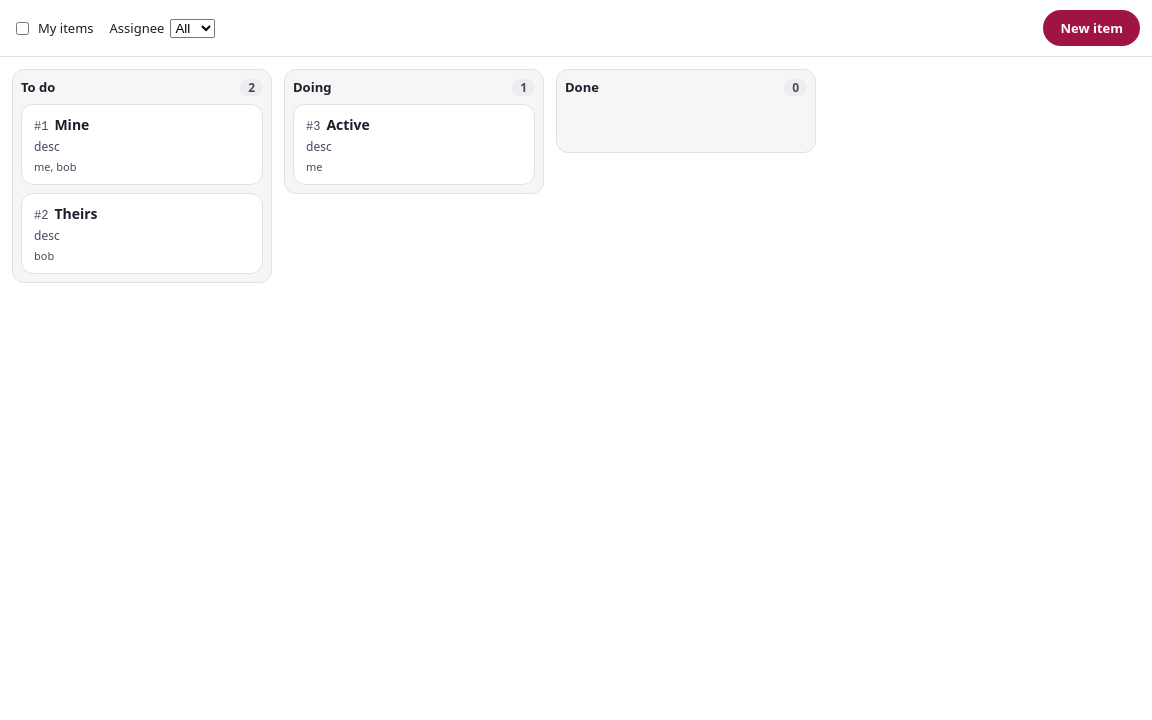
Test: BoardView create and edit › Edit in the detail opens the dialog with the item and saves only what changed
Click the text "Mine" at (72, 124), box [54,115,89,134]
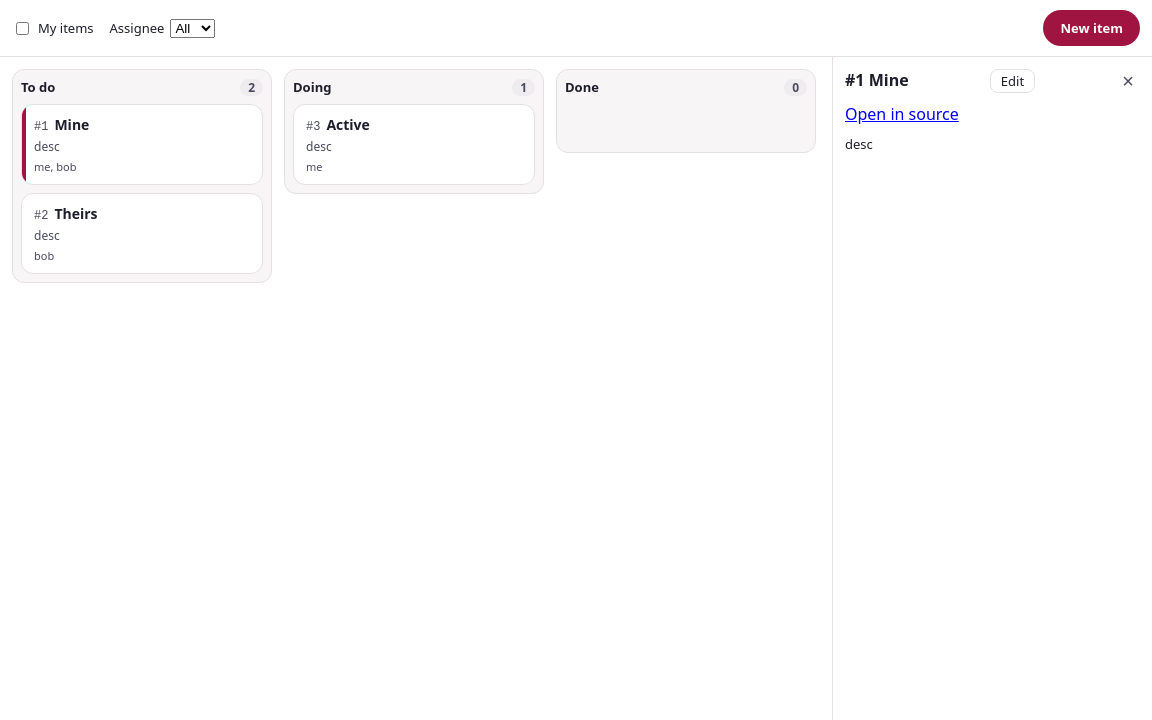
Click the button "Edit" at (1012, 81), box [990,69,1035,93]
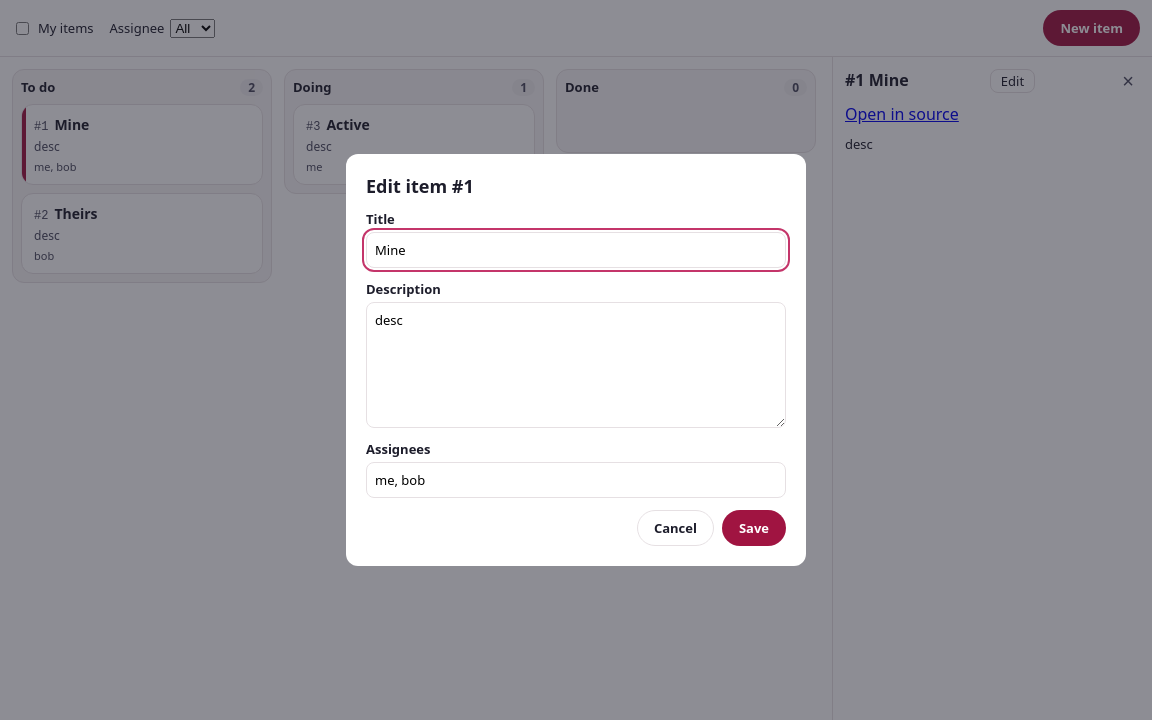
expect the field labelled "Title" holds "Mine": met
expect the field labelled "Assignees" holds "me, bob": met, box [366,462,786,498]
Replace the text in the field labelled "Title" with "Renamed" at (576, 250), box [366,232,786,268]
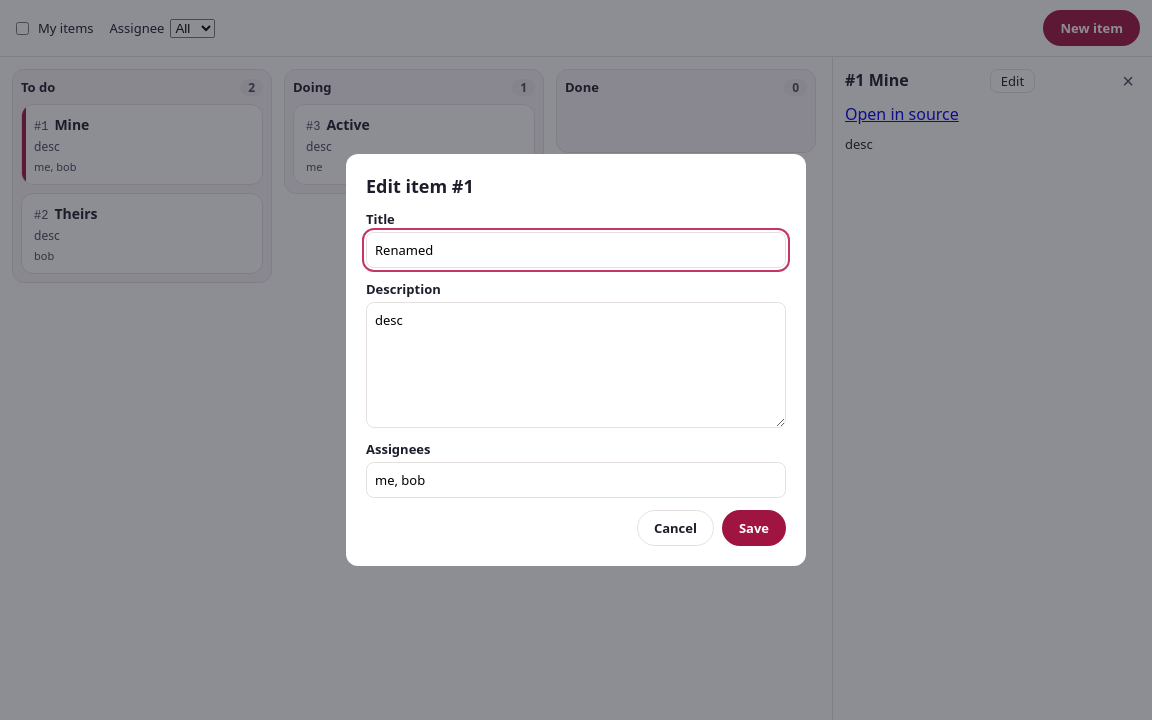
Click the button "Save" at (754, 528), box [722,510,786,546]
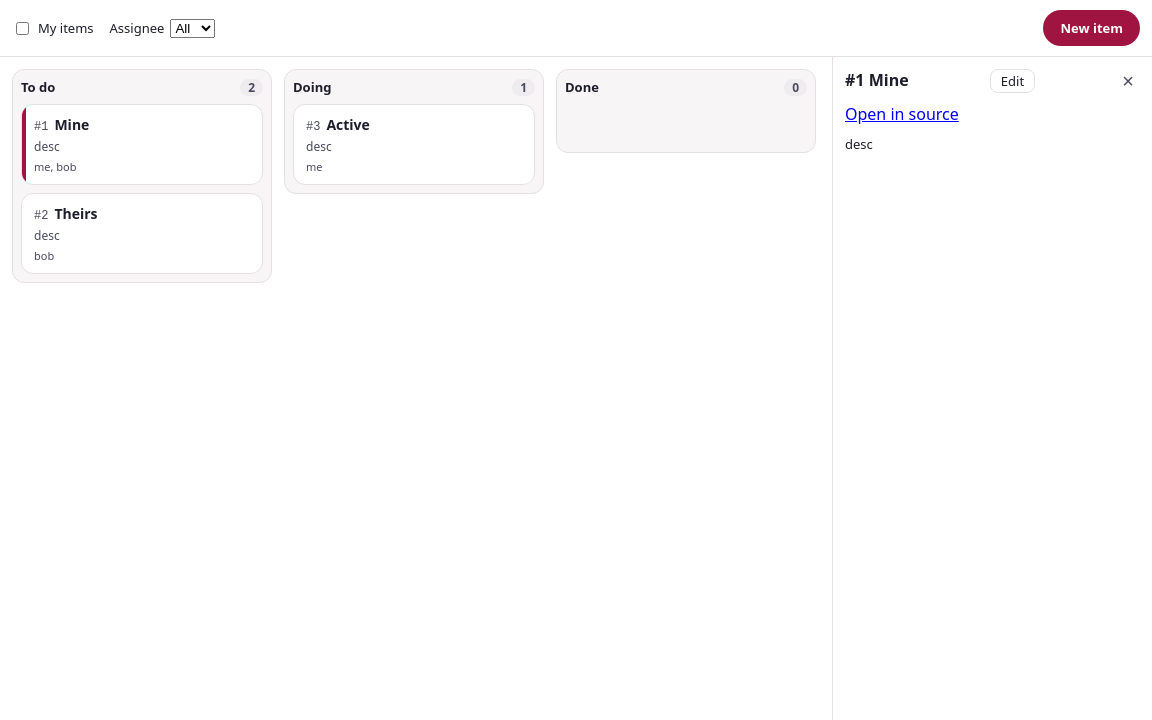
expect the dialog is gone: met
